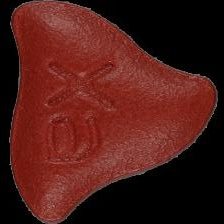55154-1423: (0, 0, 224, 224)
